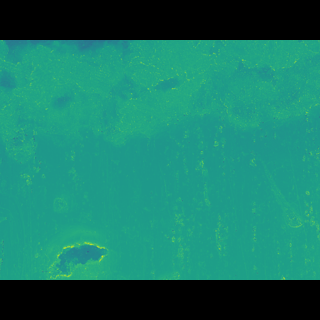Loch: (0, 69, 320, 162), (37, 214, 122, 249)
